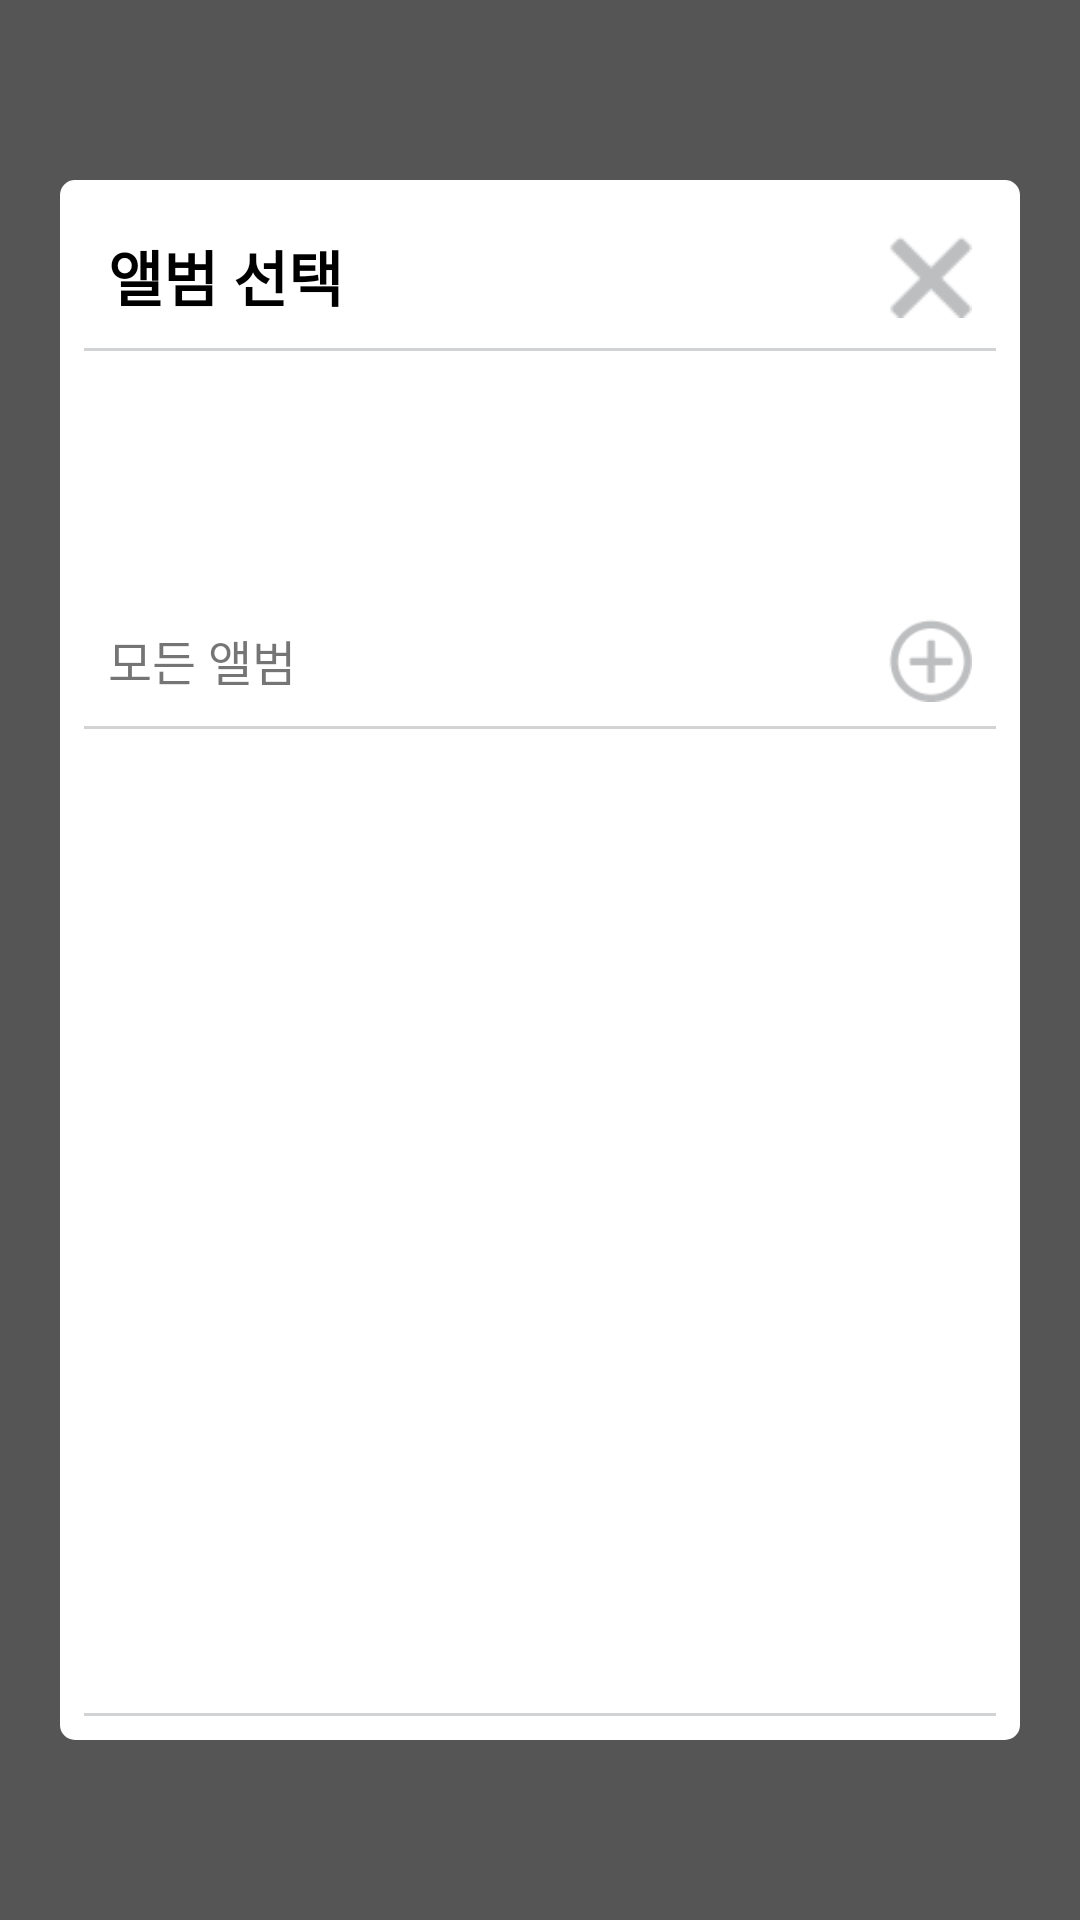

Screen size 1080×1920. Icon name, then its center in pixels as point (x, y):
cancel: point (931, 278)
plus: point (931, 661)
